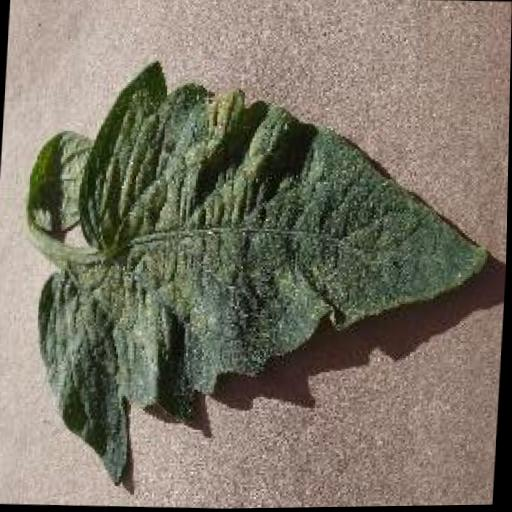Spider Mites: (28, 55, 500, 504)
